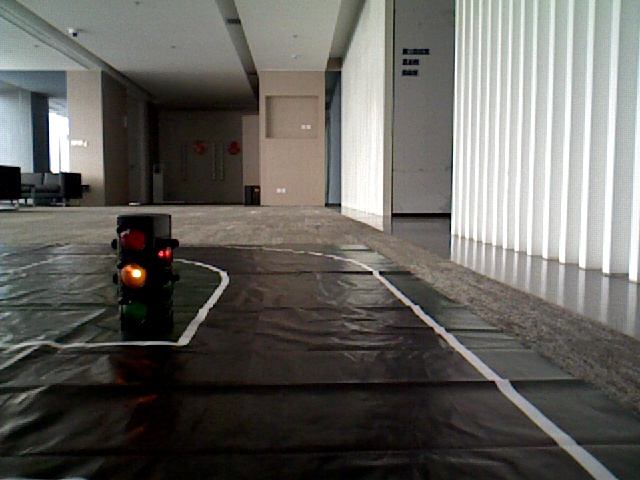yellow: (113, 218, 156, 320)
